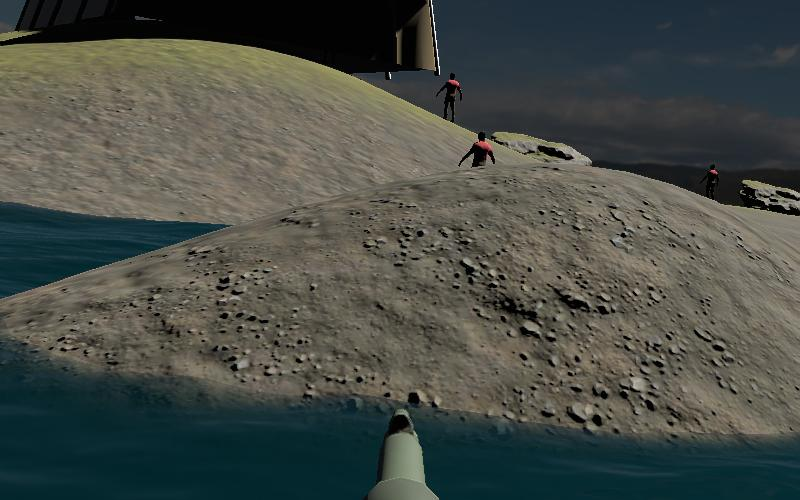Human: (457, 129, 498, 184), (435, 70, 464, 126), (699, 162, 721, 204)
